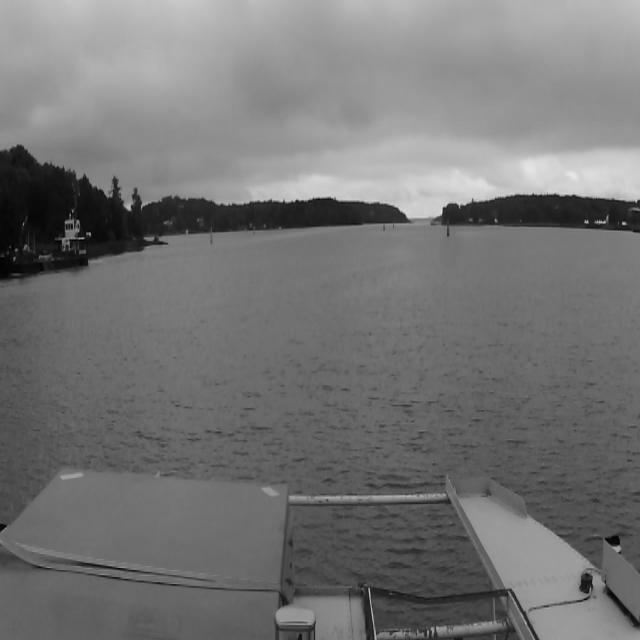buoy: (209, 225, 215, 243), (446, 222, 452, 235), (253, 226, 255, 234)
ship: (0, 210, 90, 278)
